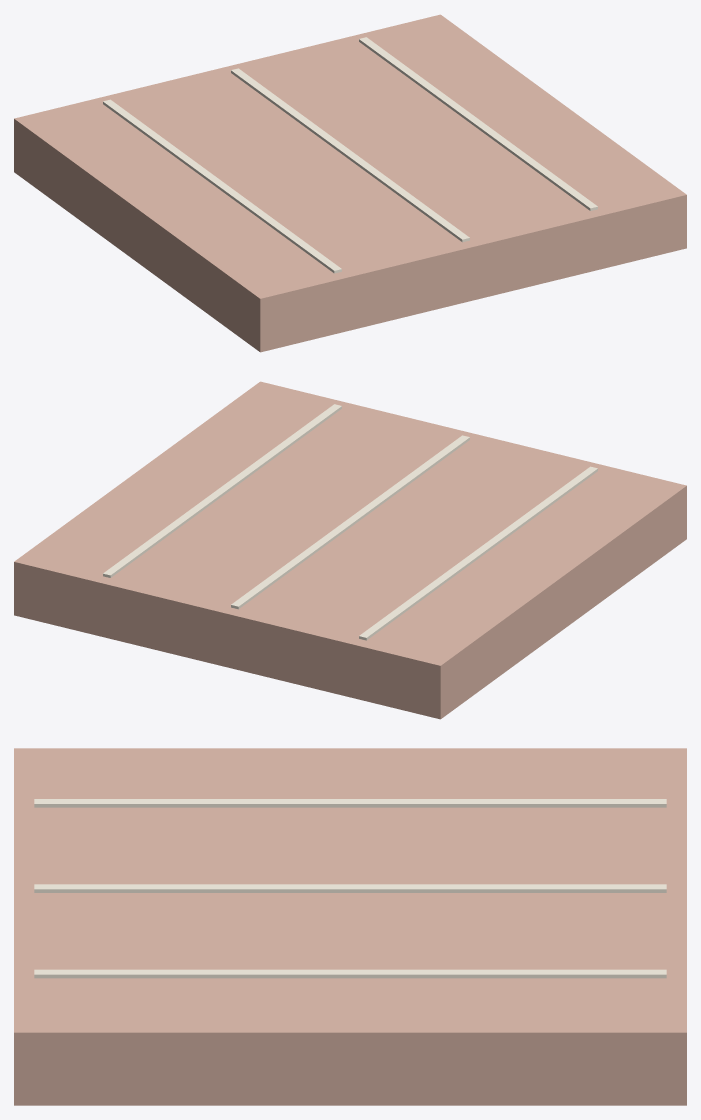
Rendered from floor-copper.glb.
3 views of the same model, one above another, from view 1: azimuth 30°, elevation 25°; view 2: azimuth 150°, elevation 25°; view 3: azimuth 270°, elevation 25° (orthographic). The views are drawn at different scales.
Parts seen in each view (by area): view 1: base, seam (×3); view 2: base, seam (×3); view 3: base, seam (×3).
Part boxes in pixels (x1=…): base: x1=14, y1=14, x2=686, y2=352; seam (×3): x1=103, y1=37, x2=597, y2=273; base: x1=14, y1=381, x2=686, y2=719; seam (×3): x1=103, y1=404, x2=597, y2=640; base: x1=14, y1=748, x2=686, y2=1105; seam (×3): x1=34, y1=799, x2=666, y2=978.
Size of the model in its own units: 1 by 0.126 by 1.
